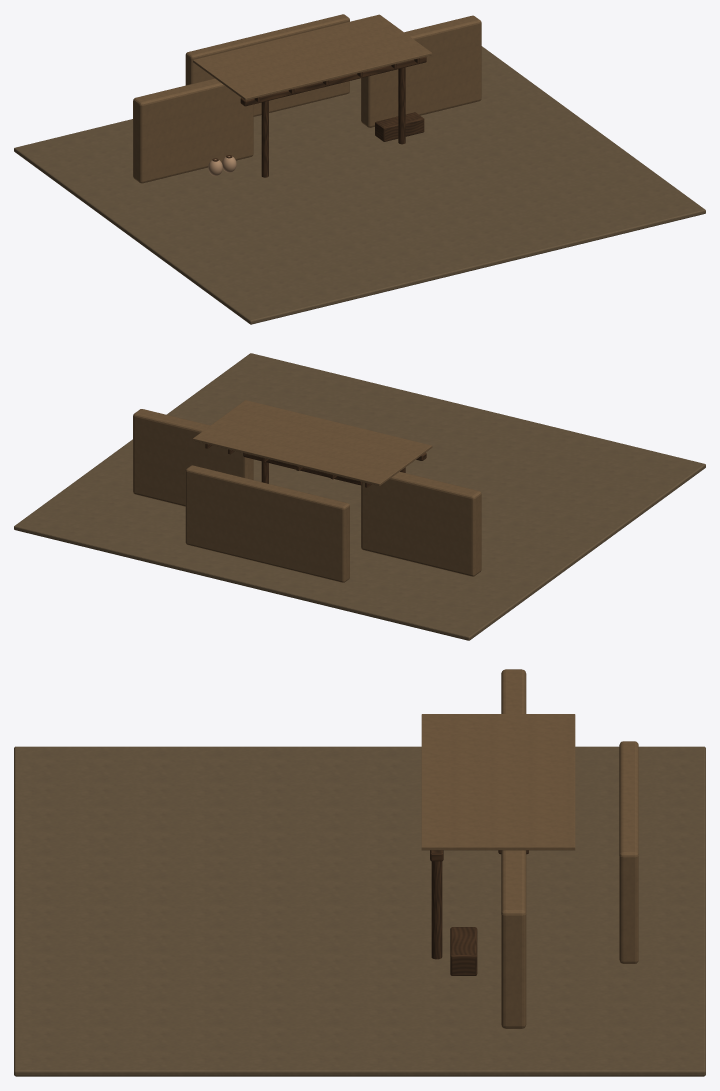
Rendered from asset-meeting.glb.
The picture shows the model from 3 angles, top to bottom: view 1: azimuth 30°, elevation 25°; view 2: azimuth 150°, elevation 25°; view 3: azimuth 270°, elevation 25°; orthographic projection. The views are drawn at different scales.
Visible parts, largest first — view 1: Courtyard floor, Light roof covering, Reception wall left, Reception wall right, Shadowed inner wall, Timber crossbeam, Plain reception bench, Portico timber, Portico timber.001; view 2: Courtyard floor, Shadowed inner wall, Light roof covering, Reception wall left, Reception wall right, Entry lintel; view 3: Courtyard floor, Light roof covering, Reception wall right, Shadowed inner wall, Plain reception bench, Portico timber.001, Reception wall left.
Part boxes in pixels (<box>): Courtyard floor: <box>14,46,705,324</box>; Light roof covering: <box>193,14,432,100</box>; Reception wall left: <box>133,78,253,183</box>; Reception wall right: <box>361,15,481,127</box>; Shadowed inner wall: <box>185,14,349,116</box>; Timber crossbeam: <box>240,56,426,106</box>; Plain reception bench: <box>375,112,424,141</box>; Portico timber: <box>261,101,268,177</box>; Portico timber.001: <box>398,67,405,144</box>; Courtyard floor: <box>14,353,705,640</box>; Shadowed inner wall: <box>185,465,349,582</box>; Light roof covering: <box>193,400,432,486</box>; Reception wall left: <box>361,471,481,576</box>; Reception wall right: <box>133,409,253,506</box>; Entry lintel: <box>243,453,362,485</box>; Courtyard floor: <box>14,746,705,1076</box>; Light roof covering: <box>421,714,575,850</box>; Reception wall right: <box>501,850,526,1028</box>; Shadowed inner wall: <box>619,741,638,963</box>; Plain reception bench: <box>450,927,477,975</box>; Portico timber.001: <box>431,861,442,959</box>; Reception wall left: <box>501,669,526,713</box>.
Bounding box in the file's own units: 20 × 3.85 × 18.
4 materials, 3 textured.
